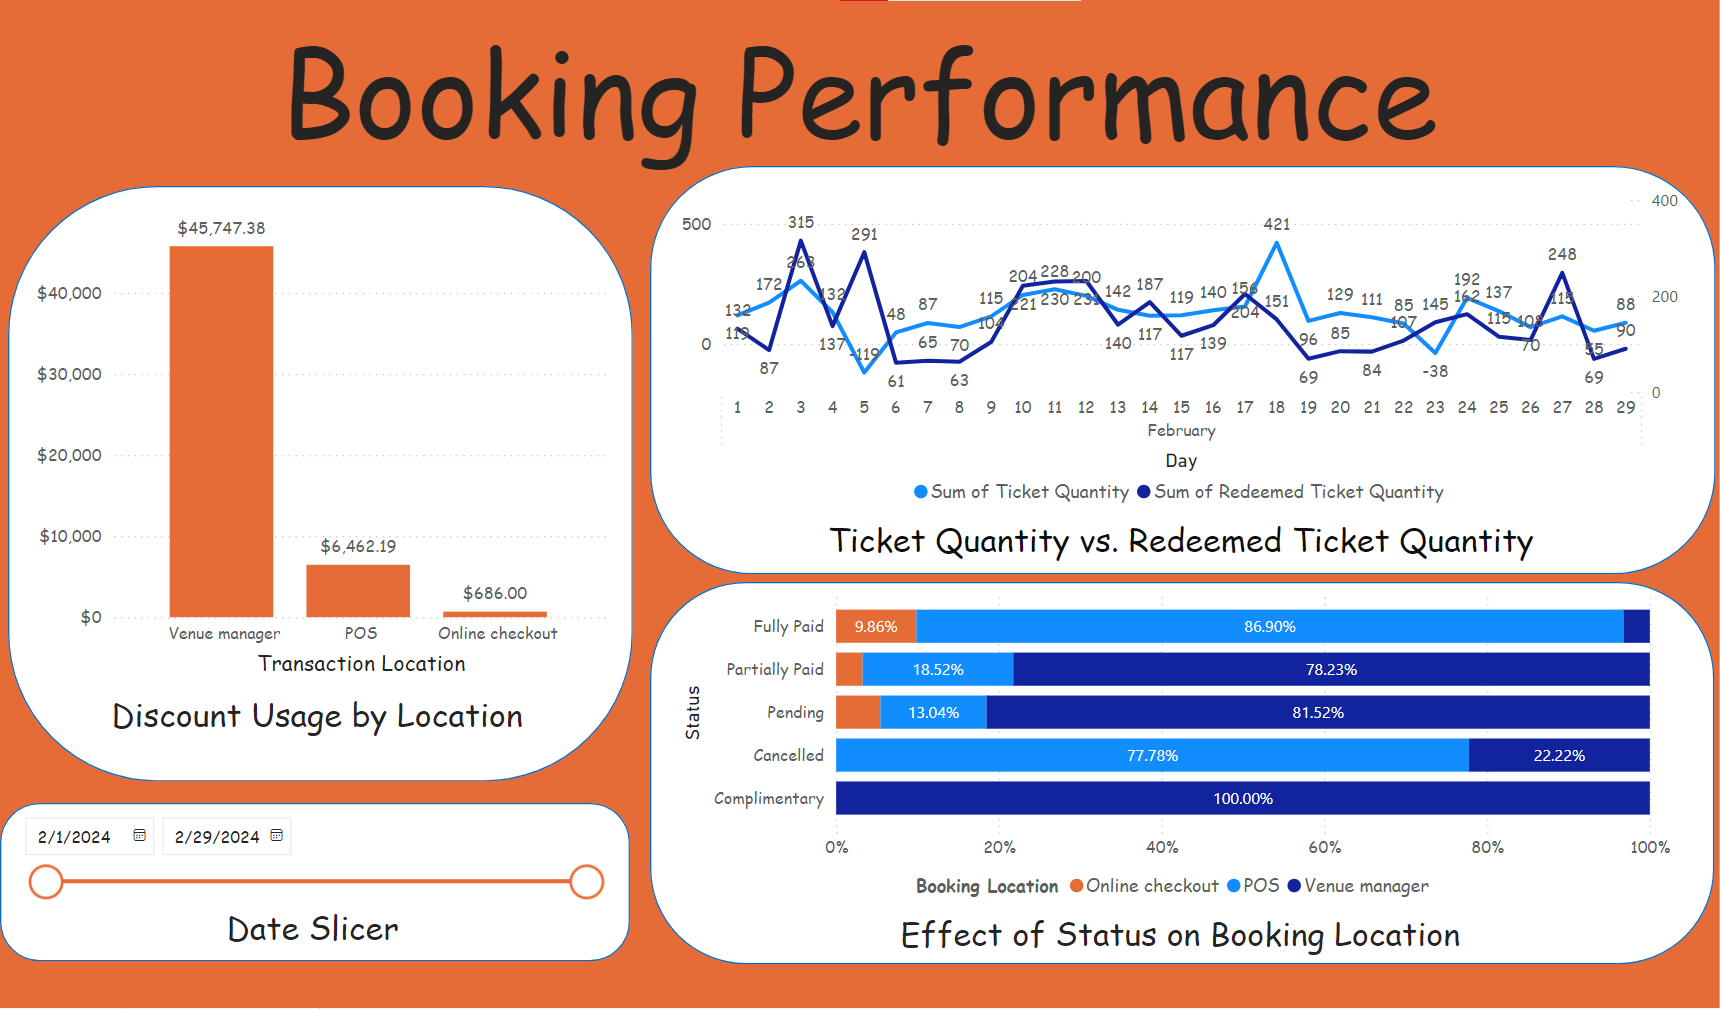

The dashboard page shown, as its layout file describes it:
{"tool":"powerbi","page":{"name":"Booking Performance Dashboard","canvas":[1280,720],"ordinal":3},"visuals":[{"type":"textbox","box":[0,0,1279.3,138.8],"z":0},{"type":"shape","box":[484,123.7,793.5,304.1],"z":0,"group":"g5"},{"type":"shape","box":[5.9,138.6,465.3,443.5],"z":0,"group":"g1"},{"type":"shape","box":[484.1,433.3,792.5,284.6],"z":0,"group":"g7"},{"type":"shape","box":[0,597.8,469.1,117.9],"z":0,"group":"g3"},{"type":"group","id":"g1","title":"Group 7","box":[5.9,138.6,465.3,443.5],"z":1000},{"type":"group","id":"g2","title":"Group 2","box":[484,123.7,793.7,303.8],"z":2000},{"type":"textbox","box":[505,380.1,748.9,47],"z":2000,"group":"g6"},{"type":"textbox","box":[13.8,510.4,443.9,56],"z":2000,"group":"g8"},{"type":"textbox","box":[122.1,668.4,221.3,46],"z":2000,"group":"g3"},{"type":"textbox","box":[505.1,673.3,748.1,43.9],"z":2000,"group":"g9"},{"type":"group","id":"g3","title":"Group 3","box":[0,597.8,469.1,117.8],"z":3000},{"type":"group","id":"g4","title":"Group 2","box":[484.1,428.4,791.7,290.1],"z":4000},{"type":"slicer","fields":{"Values":["Data.Record Date"]},"box":[6,598.3,452.2,79.3],"z":4000,"group":"g3"},{"type":"group","id":"g5","title":"Group 4","box":[484,123.7,793.7,303.8],"z":4001,"group":"g2"},{"type":"clusteredColumnChart","fields":{"Category":["Data.Transaction Location"],"Y":["Data.Discount Usage"]},"box":[21.7,145.5,435.6,364.4],"z":5000},{"type":"group","id":"g6","title":"Group 1","box":[505,380.1,748.9,47],"z":5000,"group":"g5"},{"type":"group","id":"g7","title":"Group 7","box":[484.1,433.3,792.5,284.6],"z":5000,"group":"g4"},{"type":"group","id":"g8","title":"Group 1","box":[13.8,510.4,443.9,58.3],"z":5000,"group":"g1"},{"type":"group","id":"g9","title":"Group 1","box":[505.1,673.3,748.1,43.9],"z":5000,"group":"g7"},{"type":"lineChart","fields":{"Y":["Sum(Data.Ticket Quantity)"],"Category":["Data.Record Date.Variation.Date Hierarchy.Month","Data.Record Date.Variation.Date Hierarchy.Day"],"Y2":["Sum(Data.Redeemed Ticket Quantity)"]},"box":[502.8,135.1,754.4,250.4],"z":6000,"group":"g5"},{"type":"hundredPercentStackedBarChart","fields":{"Category":["Data.Status"],"Series":["Data.Booking Location"],"Y":["CountNonNull(Data.Status)"]},"box":[502.5,428.4,745.9,250.4],"z":6000,"group":"g4"}]}

Visuals, with their boxes on the page's 1280x720 design canvas (x1, y1, x2, y2). These are canvas units, not pixel positions in the 1720x1009 screenshot, which may show the page scaled, cropped or inside an application window:
textbox: x1=0, y1=0, x2=1279, y2=139
shape: x1=484, y1=124, x2=1278, y2=428
shape: x1=6, y1=139, x2=471, y2=582
shape: x1=484, y1=433, x2=1277, y2=718
shape: x1=0, y1=598, x2=469, y2=716
"Group 7" group: x1=6, y1=139, x2=471, y2=582
"Group 2" group: x1=484, y1=124, x2=1278, y2=428
textbox: x1=505, y1=380, x2=1254, y2=427
textbox: x1=14, y1=510, x2=458, y2=566
textbox: x1=122, y1=668, x2=343, y2=714
textbox: x1=505, y1=673, x2=1253, y2=717
"Group 3" group: x1=0, y1=598, x2=469, y2=716
"Group 2" group: x1=484, y1=428, x2=1276, y2=718
slicer - Data.Record Date: x1=6, y1=598, x2=458, y2=678
"Group 4" group: x1=484, y1=124, x2=1278, y2=428
clusteredColumnChart - Data.Transaction Location x Data.Discount Usage: x1=22, y1=146, x2=457, y2=510
"Group 1" group: x1=505, y1=380, x2=1254, y2=427
"Group 7" group: x1=484, y1=433, x2=1277, y2=718
"Group 1" group: x1=14, y1=510, x2=458, y2=569
"Group 1" group: x1=505, y1=673, x2=1253, y2=717
lineChart - Sum(Data.Ticket Quantity) x Data.Record Date.Variation.Date Hierarchy.Month: x1=503, y1=135, x2=1257, y2=386
hundredPercentStackedBarChart - Data.Status x Data.Booking Location: x1=502, y1=428, x2=1248, y2=679
